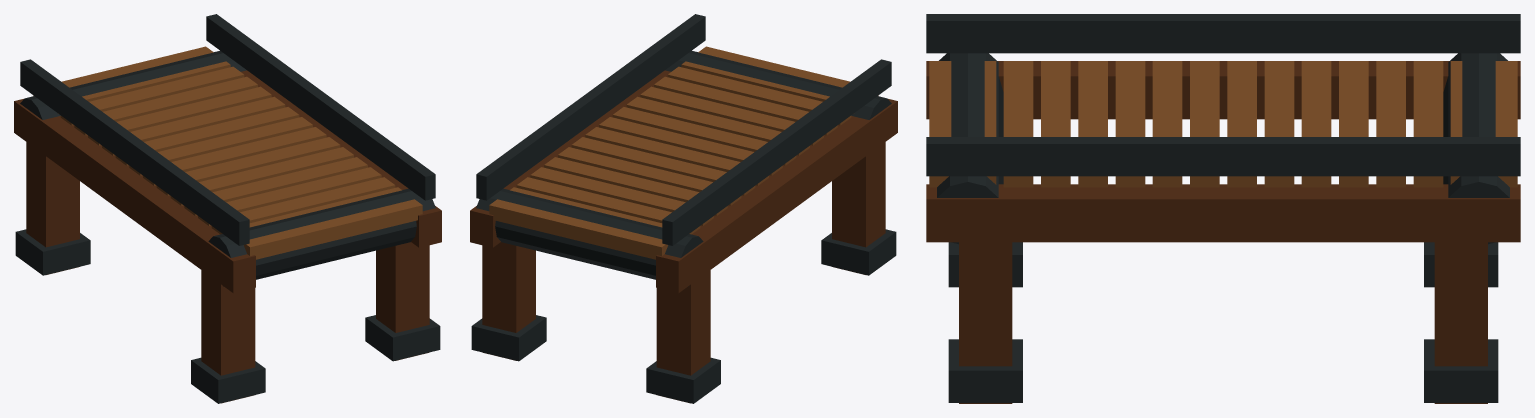
Rendered from vf_conveyor_2m.obj.
The picture shows the model from 3 angles, left to right: view 1: azimuth 30°, elevation 25°; view 2: azimuth 150°, elevation 25°; view 3: azimuth 270°, elevation 25°; orthographic projection. The views are drawn at different scales.
Parts seen in each view (by area): view 1: Belt_Surface_OakLight, Static_Oak, Static_Iron, Roller_0.86_Iron, Roller_-0.86_Iron; view 2: Belt_Surface_OakLight, Static_Oak, Static_Iron, Roller_-0.86_Iron, Roller_0.86_Iron; view 3: Static_Iron, Static_Oak, Belt_Surface_OakLight, Roller_-0.86_Iron, Roller_0.86_Iron.
Boxes of the visible parts, bbox=[...] form: Belt_Surface_OakLight: bbox=[33, 46, 422, 259]; Static_Oak: bbox=[14, 70, 441, 403]; Static_Iron: bbox=[15, 14, 440, 403]; Roller_0.86_Iron: bbox=[208, 188, 435, 286]; Roller_-0.86_Iron: bbox=[20, 50, 246, 119]; Belt_Surface_OakLight: bbox=[489, 46, 878, 259]; Static_Oak: bbox=[470, 70, 897, 403]; Static_Iron: bbox=[471, 14, 896, 403]; Roller_-0.86_Iron: bbox=[476, 188, 703, 286]; Roller_0.86_Iron: bbox=[665, 50, 891, 119]; Static_Iron: bbox=[926, 14, 1520, 402]; Static_Oak: bbox=[926, 61, 1520, 403]; Belt_Surface_OakLight: bbox=[929, 61, 1517, 187]; Roller_-0.86_Iron: bbox=[1443, 53, 1509, 244]; Roller_0.86_Iron: bbox=[937, 53, 1003, 244].
Size of the model in its own units: 1.17 by 0.95 by 2.
